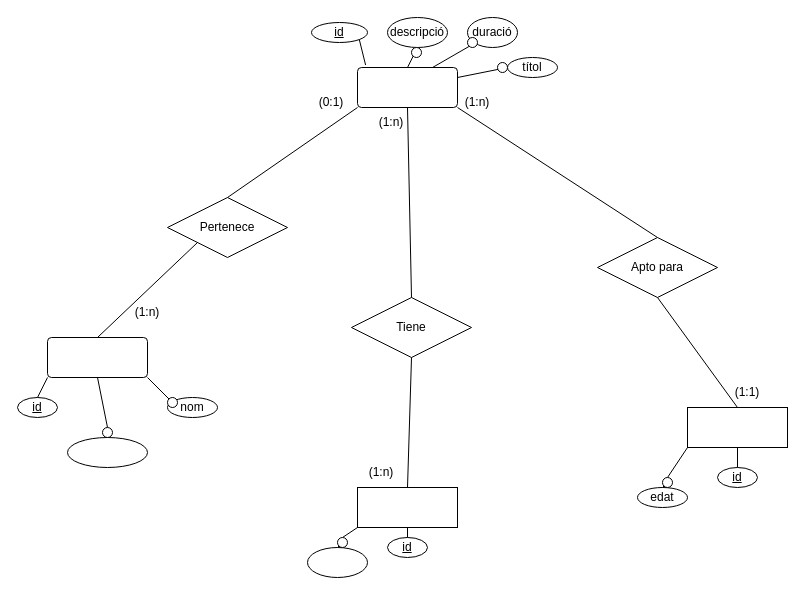
The diagram is 805 pixels wide and 595 high, and some of its shapes have lost their labels. Each missing label, with the box of its shape:
categoria: (306, 546, 368, 578)
Categories: (356, 486, 458, 528)
Edats: (686, 406, 788, 448)
Séries: (46, 336, 148, 378)
temporada: (66, 436, 148, 468)
Vídeos: (356, 66, 458, 108)
